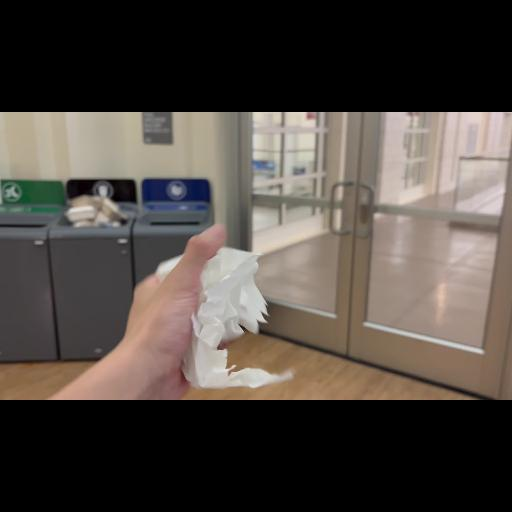napkin: (148, 244, 298, 394)
